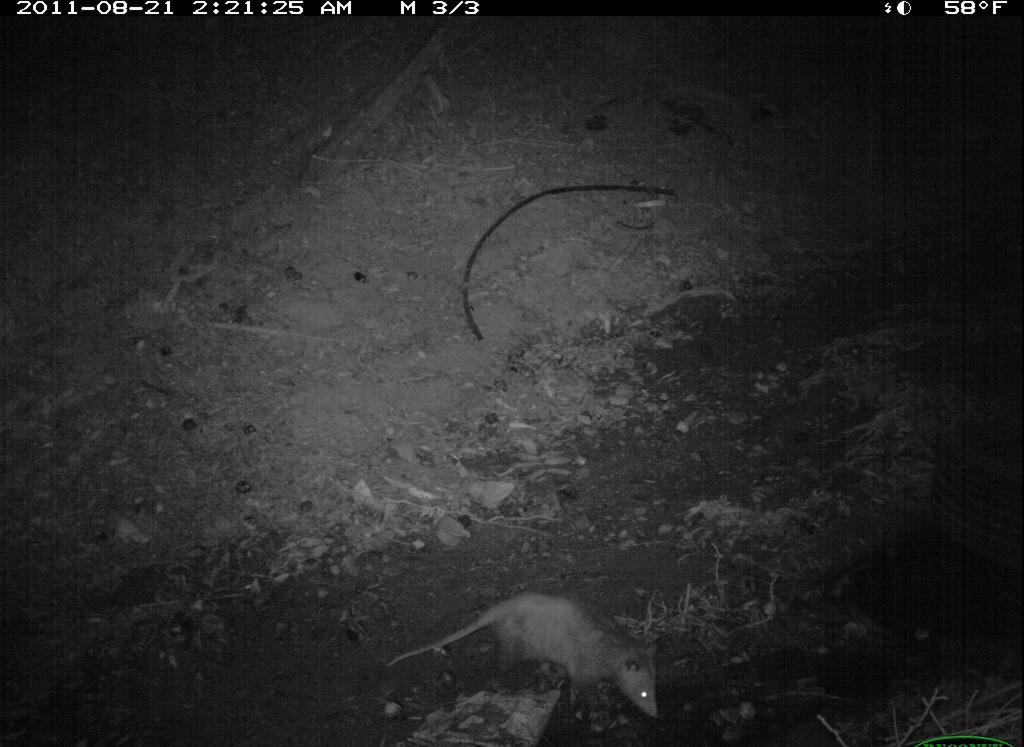opossum: (386, 582, 671, 734)
